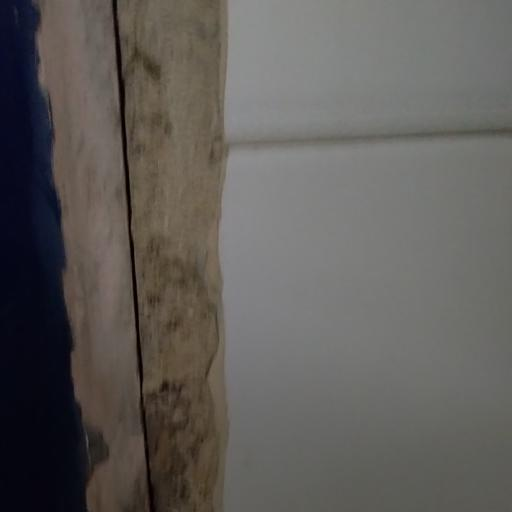spalling: (37, 0, 251, 495)
